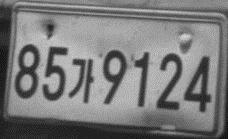1: (127, 50, 156, 109)
2: (155, 52, 184, 110)
4: (182, 54, 213, 112)
5: (40, 44, 69, 101)
8: (12, 43, 42, 100)
9: (101, 49, 128, 107)
가: (66, 56, 95, 104)
